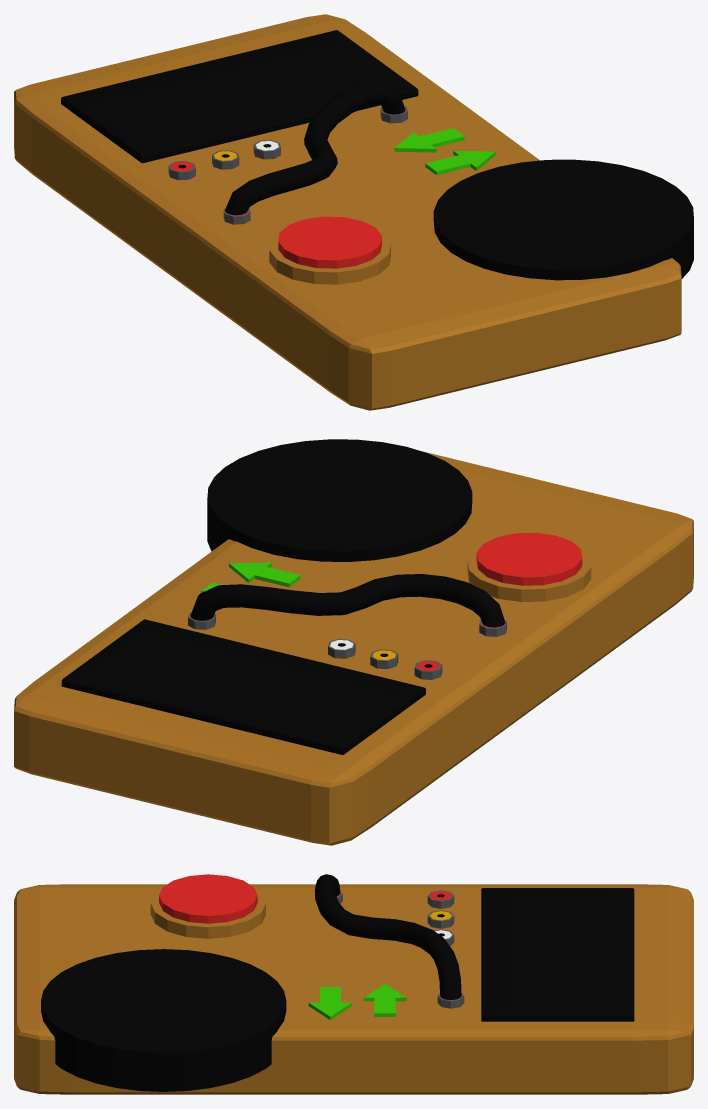
File: AudioLog.fbx
3 views of the same model, one above another, from view 1: azimuth 30°, elevation 25°; view 2: azimuth 150°, elevation 25°; view 3: azimuth 270°, elevation 25° (orthographic). The views are drawn at different scales.
Parts seen in each view (by area): view 1: AudioLog; view 2: AudioLog; view 3: AudioLog.
Boxes of the visible parts, bbox=[...] form: AudioLog: bbox=[14, 14, 693, 410]; AudioLog: bbox=[14, 439, 693, 845]; AudioLog: bbox=[14, 874, 693, 1094].
Size of the model in its own units: 30.92 by 8.22 by 48.89.
